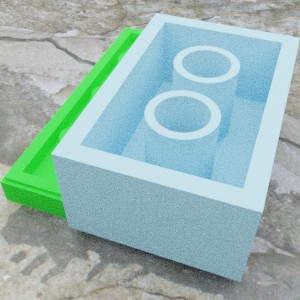lego: (51, 13, 300, 282), (0, 27, 176, 221)
